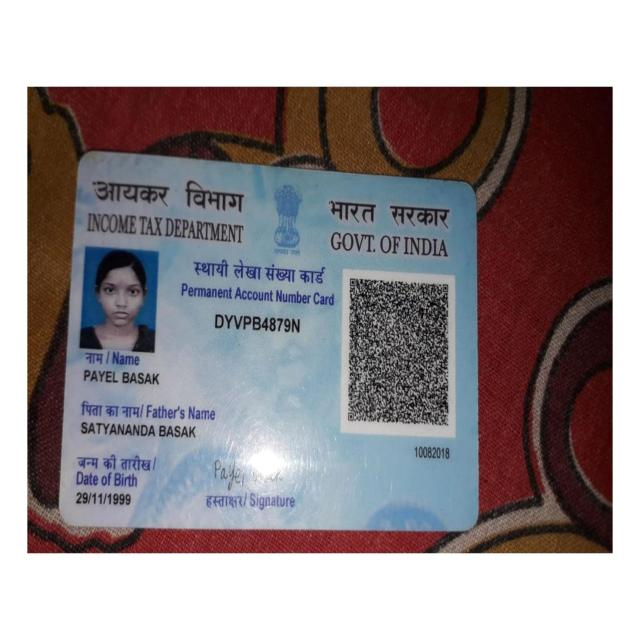pan_card: (62, 153, 475, 532)
